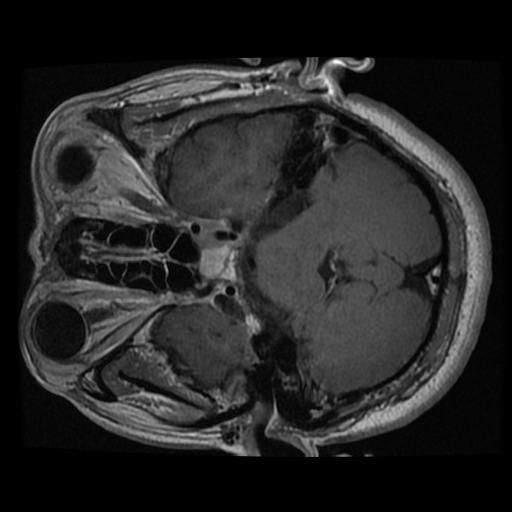pituitary tumour: (196, 244, 241, 281)
